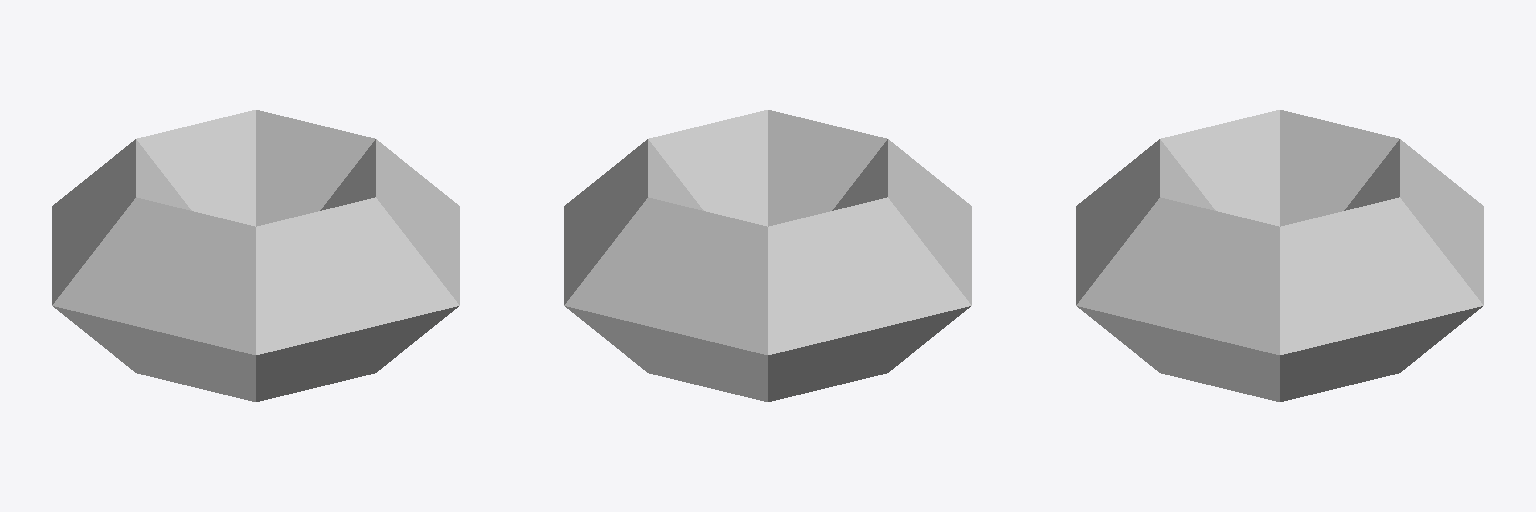
File: explosion_3.obj
3 views of the same model, side by side, from view 1: azimuth 30°, elevation 25°; view 2: azimuth 150°, elevation 25°; view 3: azimuth 270°, elevation 25° (orthographic).
Visible parts, largest first — view 1: Sphere; view 2: Sphere; view 3: Sphere.
Part boxes in pixels (x1,y1,x2,y2): Sphere: (52,110,459,401); Sphere: (564,110,971,401); Sphere: (1076,110,1483,401).
Size of the model in its own units: 68 by 28 by 58.89.